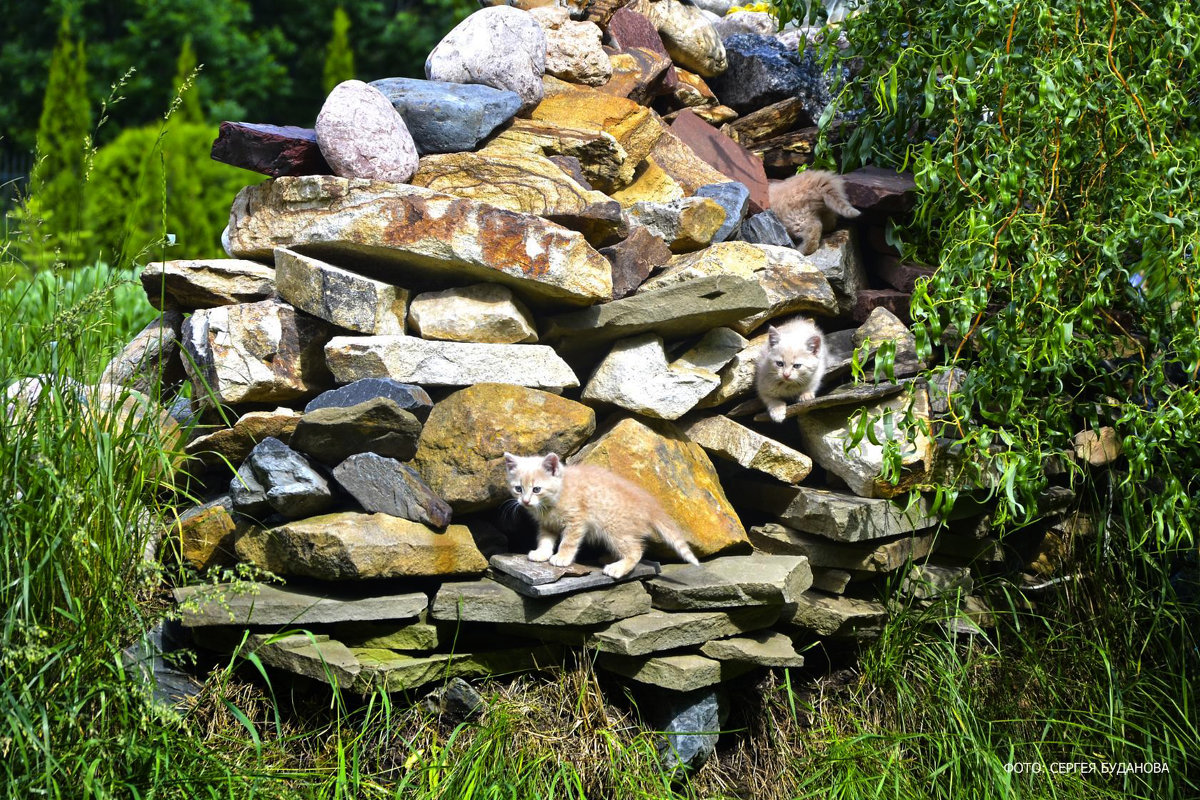cat: (501, 447, 702, 581), (754, 315, 834, 422)
